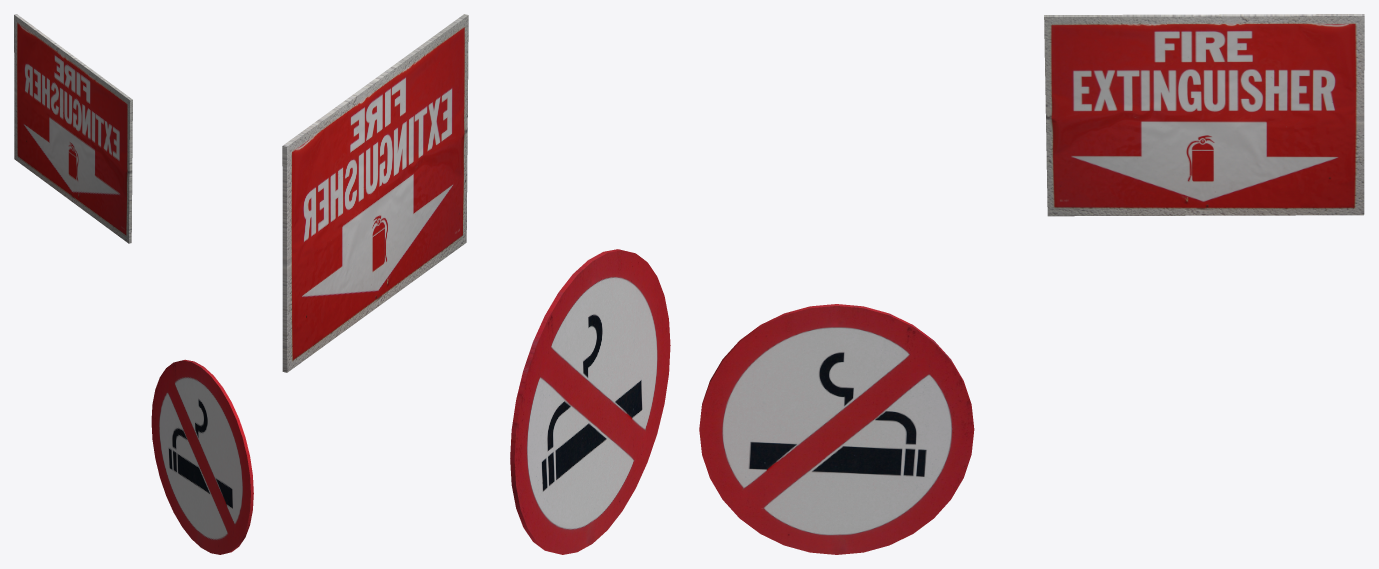
File: fiiresign.fbx
3 views of the same model, side by side, from view 1: azimuth 30°, elevation 25°; view 2: azimuth 150°, elevation 25°; view 3: azimuth 270°, elevation 25° (orthographic). The views are drawn at different scales.
Visible parts, largest first — view 1: Fire_Extinguisher_1, No_Smoking; view 2: Fire_Extinguisher_1, No_Smoking; view 3: Fire_Extinguisher_1, No_Smoking.
Boxes of the visible parts, x1,y1,x2,y2 form: Fire_Extinguisher_1: (14, 14, 132, 243); No_Smoking: (151, 359, 253, 554); Fire_Extinguisher_1: (282, 14, 468, 372); No_Smoking: (510, 249, 670, 554); Fire_Extinguisher_1: (1044, 14, 1364, 216); No_Smoking: (699, 304, 974, 554).
Bounding box in the file's own units: 1.22 × 67.1 × 74.67.
Materials: 2 (2 with a texture image).
